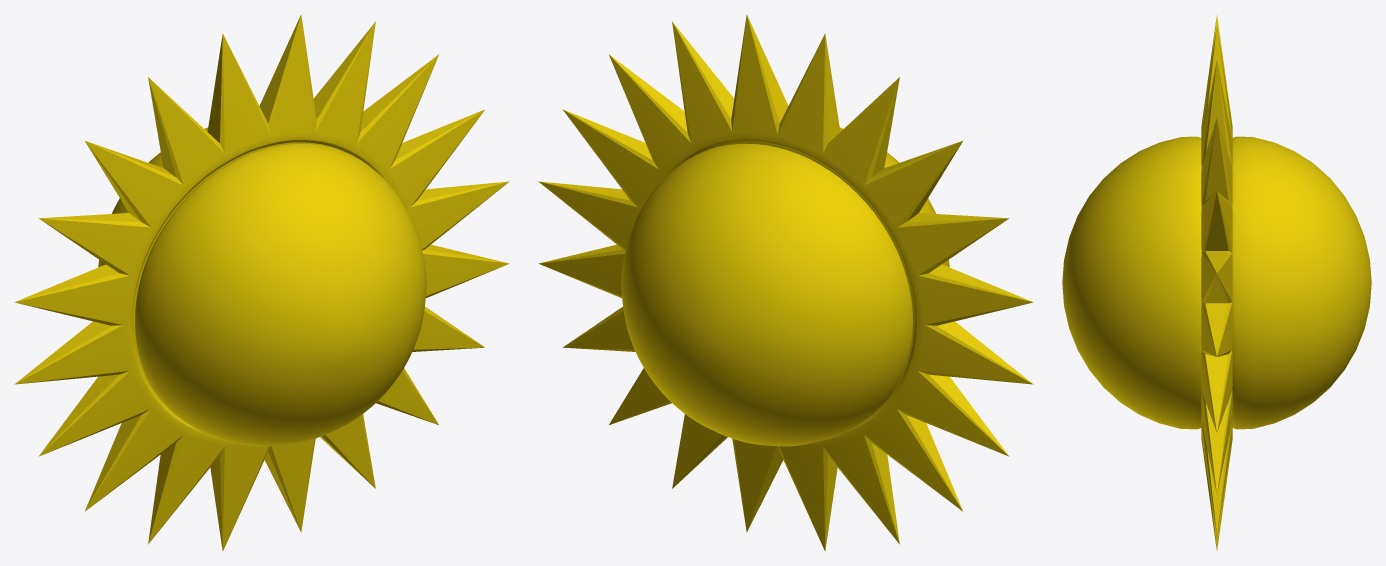
The model's file is sun.gltf.
3 views of the same model, side by side, from view 1: azimuth 30°, elevation 25°; view 2: azimuth 150°, elevation 25°; view 3: azimuth 270°, elevation 25° (orthographic). The views are drawn at different scales.
Visible parts, largest first — view 1: sun.1; view 2: sun.1; view 3: sun.1.
Boxes of the visible parts, box(x1,y1,x2,y2) form: sun.1: box(14, 14, 509, 551); sun.1: box(538, 14, 1033, 551); sun.1: box(1062, 15, 1371, 550).
Bounding box in the file's own units: 27.32 × 27.32 × 15.9.
